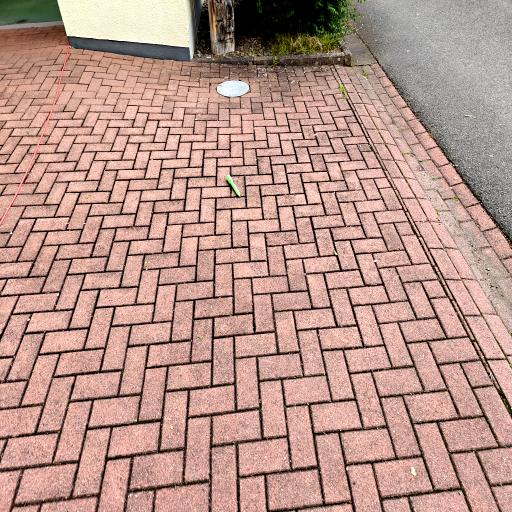Probe-Detection: (226, 174, 240, 197)
